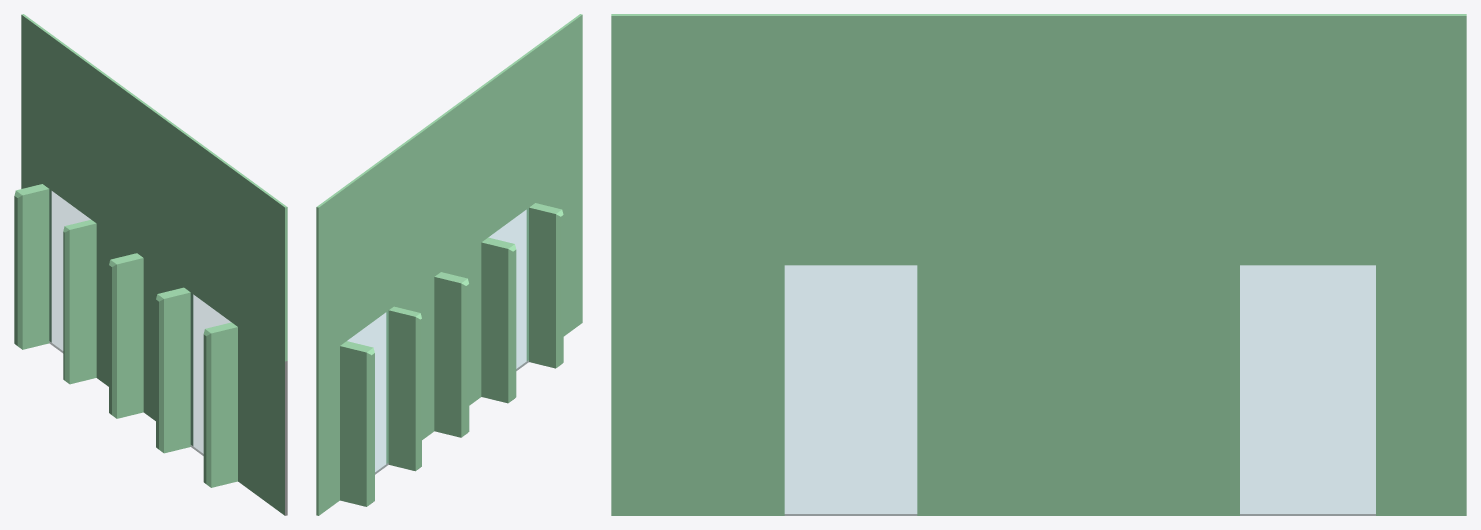
The model's file is wall_2.fbx.
3 renders of one model, left to right at view 1: azimuth 30°, elevation 25°; view 2: azimuth 150°, elevation 25°; view 3: azimuth 270°, elevation 25°, orthographic. The views are drawn at different scales.
Parts seen in each view (by area): view 1: pCube12; view 2: pCube12; view 3: pCube12.
Part boxes in pixels (x1,y1,x2,y2): pCube12: (14,14,287,515); pCube12: (316,14,582,515); pCube12: (611,14,1466,515).
Size of the model in its own units: 1.98 by 18.04 by 27.96.
